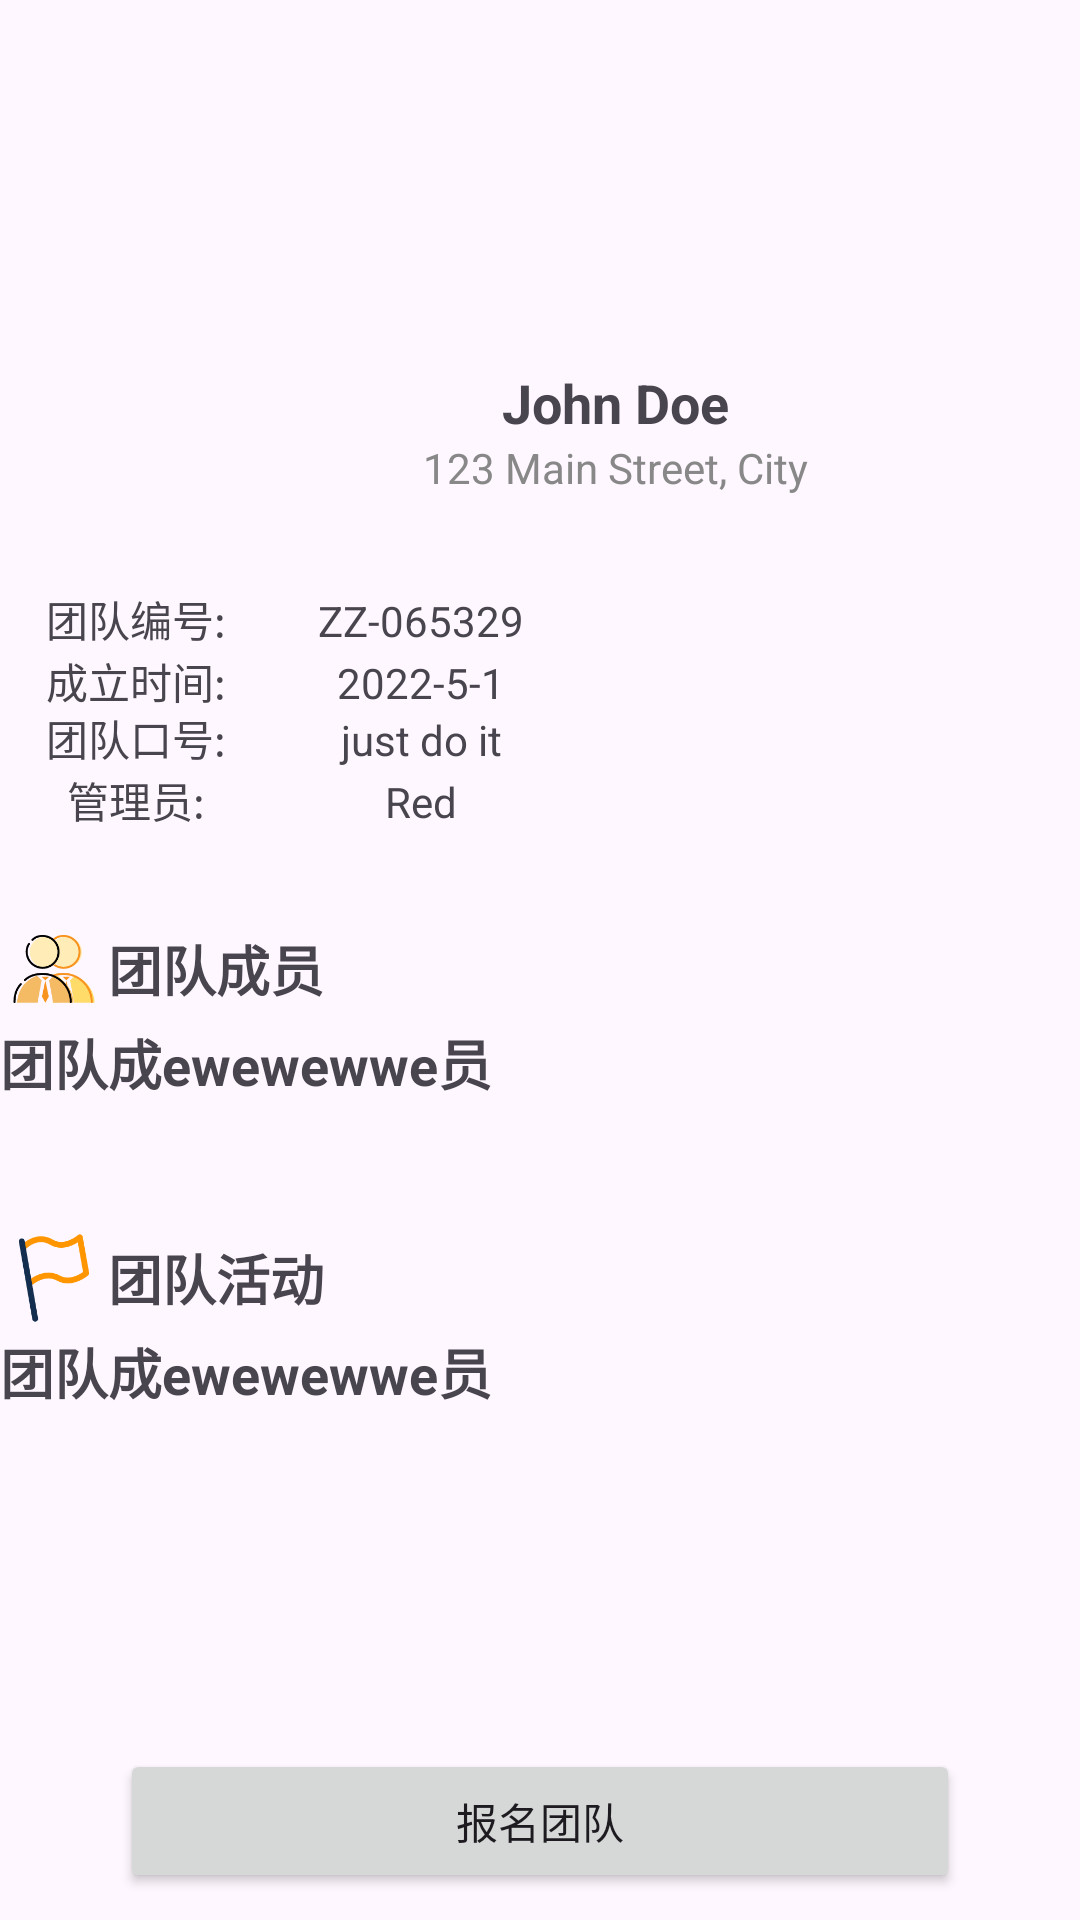

Named icons in this screenshot (1080*1920) and their bounding boxes, (x1, y1, x2, y2):
huodong: (19, 1234, 89, 1322)
ren: (13, 935, 95, 1003)
